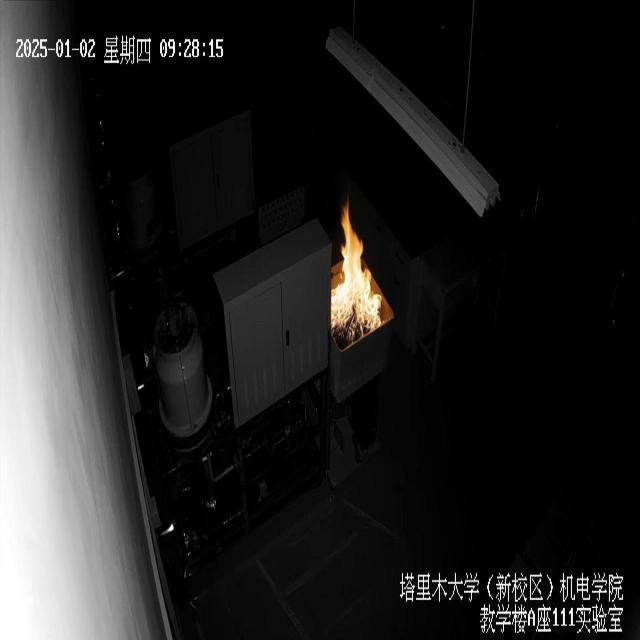smoke: (326, 203, 383, 337)
